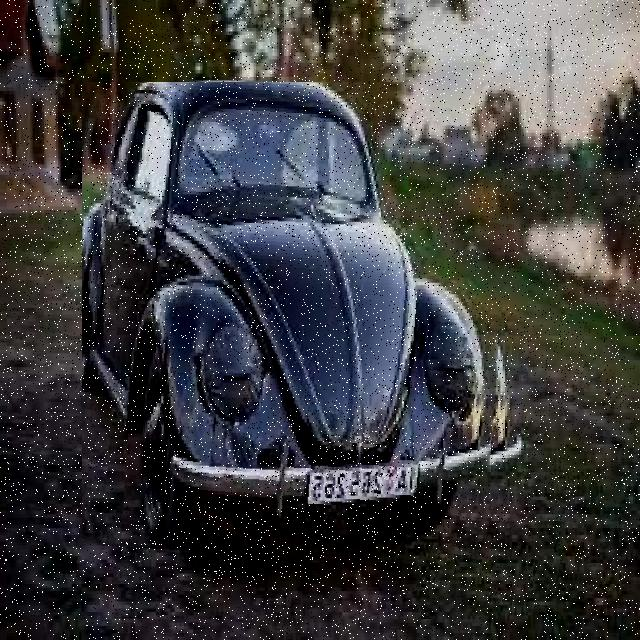car: (83, 83, 519, 569)
